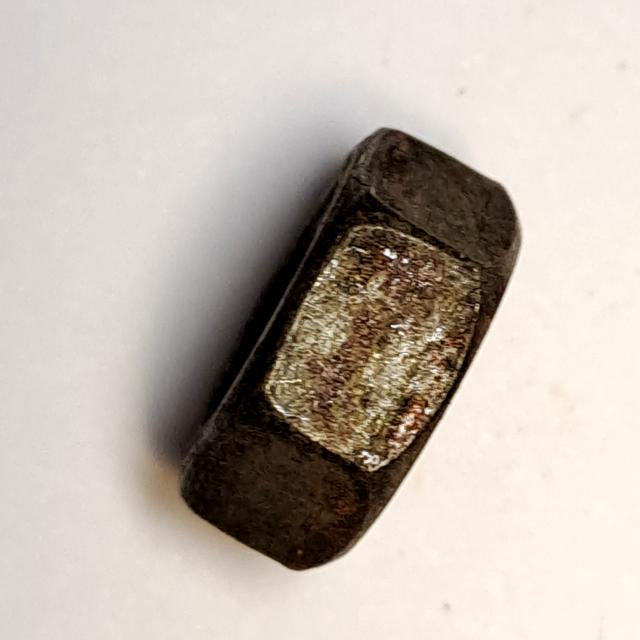Side_Rust: (169, 115, 535, 585)
